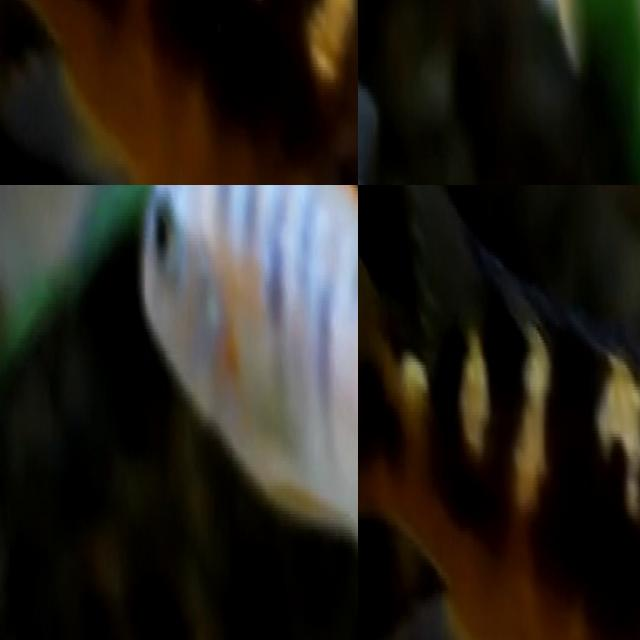fish: (129, 185, 358, 640), (0, 0, 358, 185)
